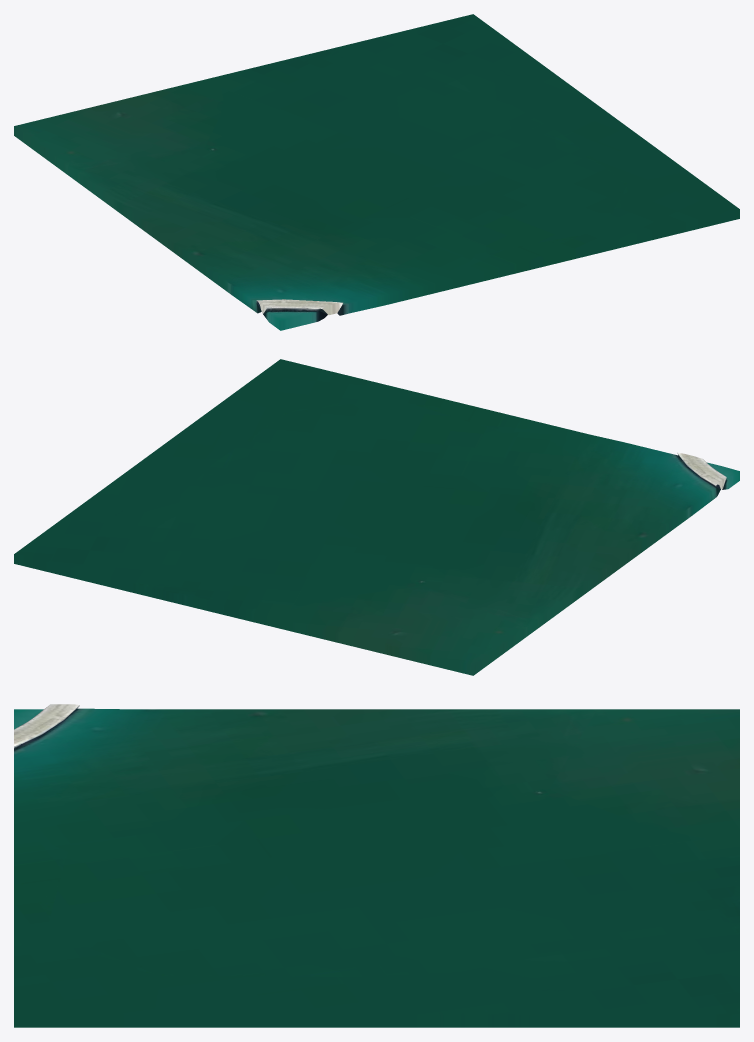
The model's file is z16-10480-25322-h0-yup-uvflip-v3-world.glb.
3 views of the same model, one above another, from view 1: azimuth 30°, elevation 25°; view 2: azimuth 150°, elevation 25°; view 3: azimuth 270°, elevation 25° (orthographic). The views are drawn at different scales.
Bounding box in the file's own units: 483 × 13.44 × 485.
1 material, 1 textured.
